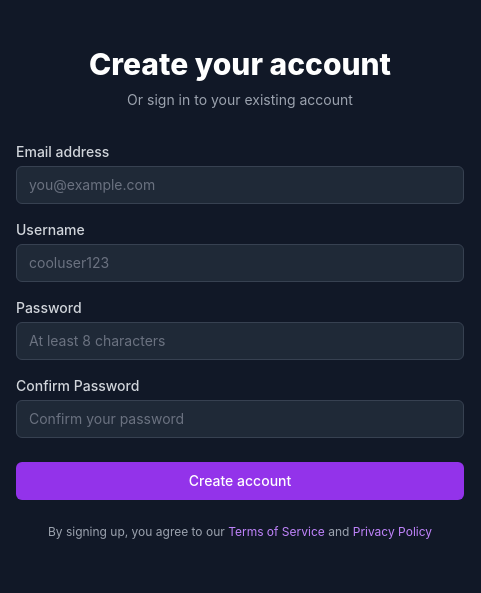
Test: SignUp Component › validates password length
Type "test@example.com" into the field with placeholder "you@example.com" at (240, 185), box [16,166,464,204]
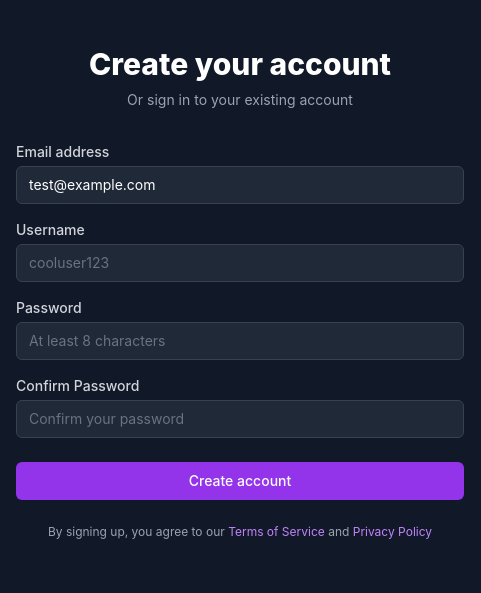
Type "testuser" into the field with placeholder "cooluser123" at (240, 263), box [16,244,464,282]
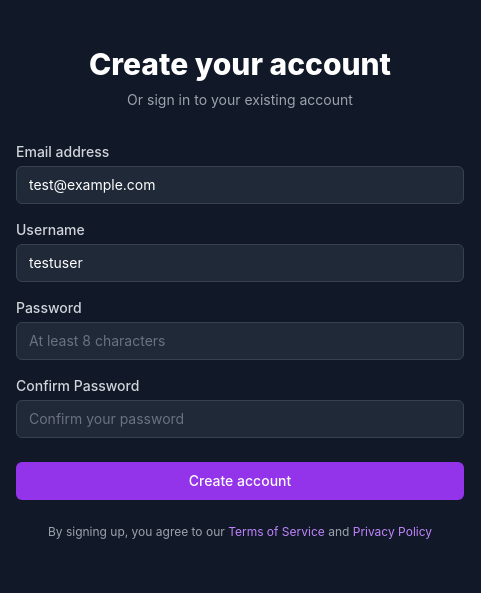
Type "short" into the password field with placeholder "At least 8 characters" at (240, 341), box [16,322,464,360]
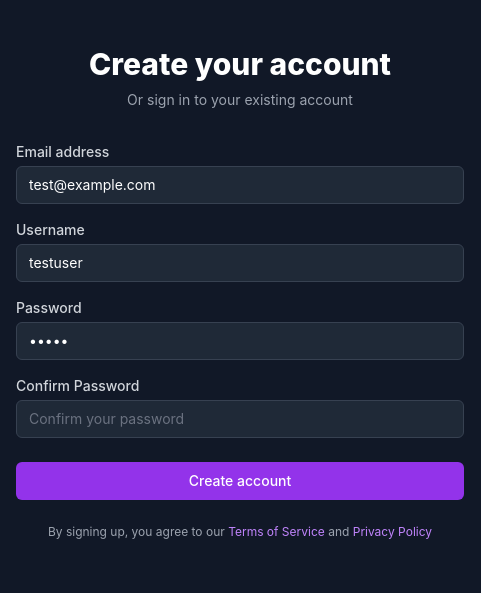
Type "short" into the password field with placeholder "Confirm your password" at (240, 419), box [16,400,464,438]
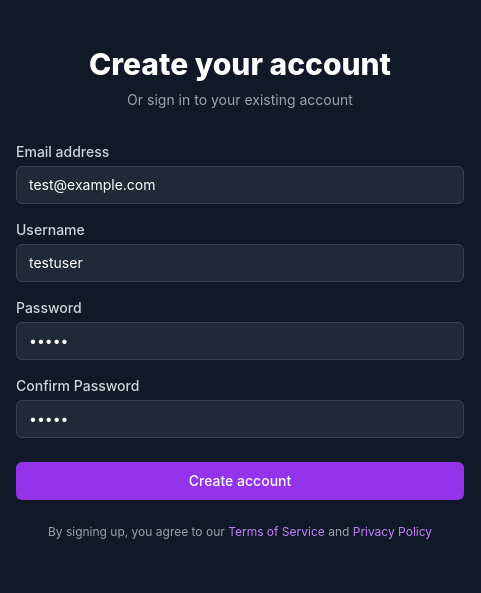
Click the button "Create account" at (240, 481), box [16,462,464,500]
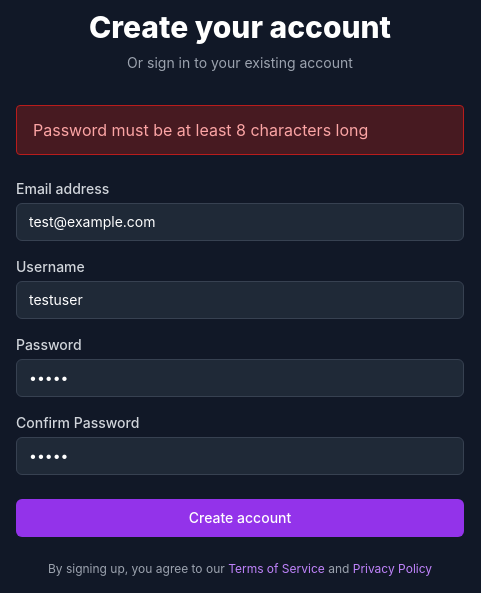
Check: the text "Password must be at least 8 characters long" is shown, box [16,105,464,155]
